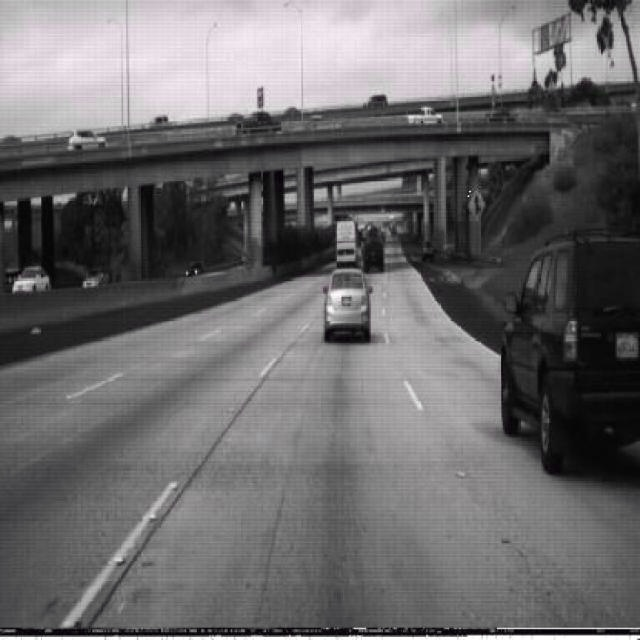merge: (468, 185, 487, 222)
